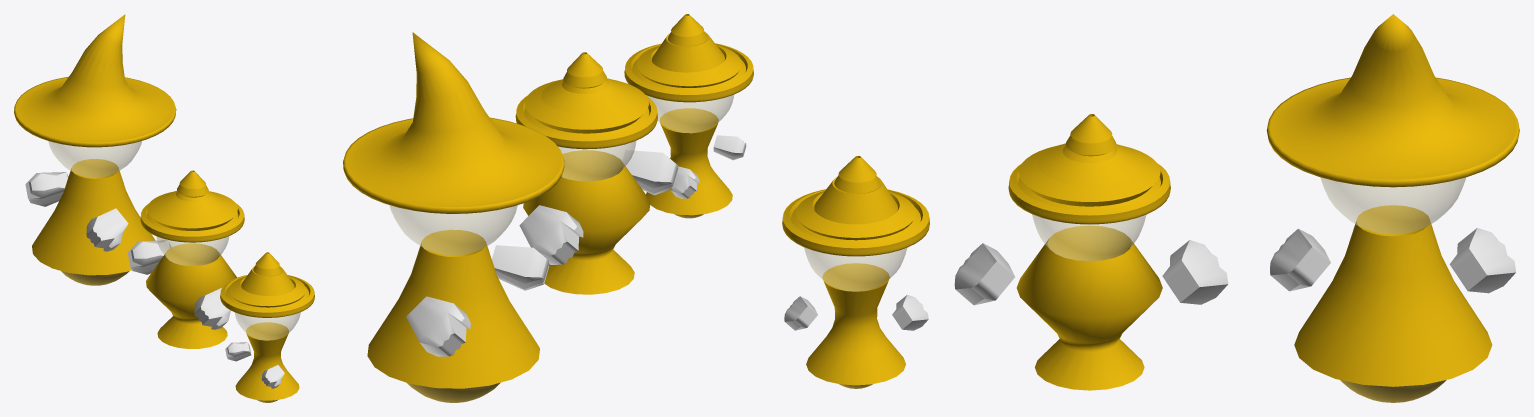
File: TESTMages.fbx
3 views of the same model, side by side, from view 1: azimuth 30°, elevation 25°; view 2: azimuth 150°, elevation 25°; view 3: azimuth 270°, elevation 25° (orthographic). The views are drawn at different scales.
Visible parts, largest first — view 1: pCone2, pCone1, pasted__pasted__pCone1, pasted__pasted__pCone2, pasted__pCone2, pasted__pCone1, pSphere2, pasted__pCube1 (×2), pasted__pasted__pSphere2, pasted__pasted__pCube1 (×2), pasted__pSphere2, pCube1 (+2 smaller); view 2: pCone2, pCone1, pasted__pasted__pCone1, pasted__pasted__pCone2, pasted__pCone2, pasted__pCone1, pSphere2, pasted__pasted__pCube1 (×2), pCube1, pasted__pCube1 (×2), pasted__pasted__pSphere2, pasted__pSphere2 (+2 smaller); view 3: pCone2, pCone1, pasted__pasted__pCone1, pasted__pasted__pCone2, pasted__pCone2, pasted__pCone1, pSphere2, pasted__pasted__pCube1 (×2), pasted__pasted__pSphere2, pasted__pCube1 (×2), pCube1, pasted__pSphere2 (+2 smaller).
Part boxes in pixels (bbox=[...]): pCone2: bbox=[14, 14, 176, 147]; pCone1: bbox=[32, 159, 155, 275]; pasted__pasted__pCone1: bbox=[146, 243, 236, 348]; pasted__pasted__pCone2: bbox=[140, 170, 244, 242]; pasted__pCone2: bbox=[220, 252, 314, 317]; pasted__pCone1: bbox=[235, 322, 299, 400]; pSphere2: bbox=[48, 141, 141, 177]; pasted__pCube1 (×2): bbox=[86, 208, 251, 361]; pasted__pasted__pSphere2: bbox=[156, 236, 229, 265]; pasted__pasted__pCube1 (×2): bbox=[127, 240, 284, 388]; pasted__pSphere2: bbox=[235, 312, 300, 340]; pCube1: bbox=[25, 172, 68, 206]; pCone2: bbox=[343, 32, 564, 213]; pCone1: bbox=[367, 229, 539, 388]; pasted__pasted__pCone1: bbox=[523, 150, 650, 294]; pasted__pasted__pCone2: bbox=[515, 52, 657, 149]; pasted__pCone2: bbox=[624, 14, 753, 102]; pasted__pCone1: bbox=[646, 108, 732, 215]; pSphere2: bbox=[389, 205, 517, 255]; pasted__pasted__pCube1 (×2): bbox=[519, 135, 746, 264]; pCube1: bbox=[406, 296, 470, 356]; pasted__pCube1 (×2): bbox=[492, 166, 699, 290]; pasted__pasted__pSphere2: bbox=[558, 141, 636, 181]; pasted__pSphere2: bbox=[647, 95, 733, 132]; pCone2: bbox=[1266, 14, 1519, 187]; pCone1: bbox=[1294, 205, 1492, 386]; pasted__pasted__pCone1: bbox=[1016, 225, 1162, 390]; pasted__pasted__pCone2: bbox=[1008, 114, 1170, 224]; pasted__pCone2: bbox=[782, 156, 929, 256]; pasted__pCone1: bbox=[806, 263, 905, 385]; pSphere2: bbox=[1320, 177, 1465, 234]; pasted__pasted__pCube1 (×2): bbox=[784, 240, 1228, 330]; pasted__pasted__pSphere2: bbox=[1032, 214, 1146, 261]; pasted__pCube1 (×2): bbox=[892, 228, 1330, 330]; pCube1: bbox=[1449, 228, 1516, 293]; pasted__pSphere2: bbox=[804, 247, 906, 291].
Bounding box in the file's own units: 9.39 × 16.57 × 27.36.
